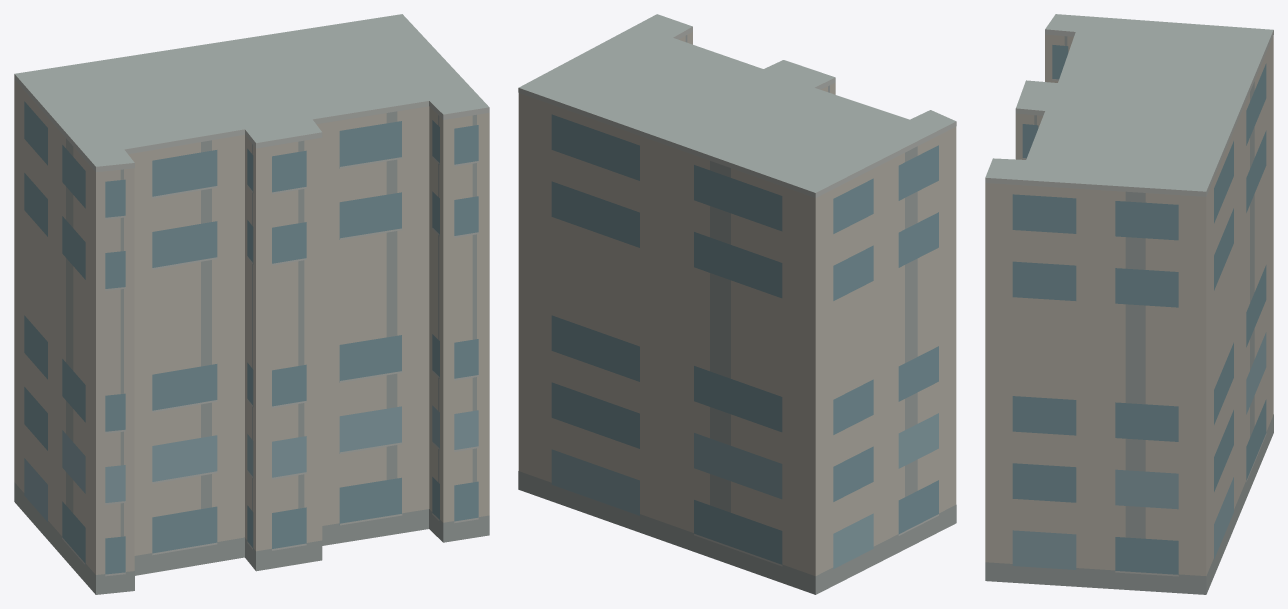
Rendered from survey-upis-32687090.glb.
3 renders of one model, left to right at view 1: azimuth 30°, elevation 25°; view 2: azimuth 150°, elevation 25°; view 3: azimuth 270°, elevation 25°, orthographic. The views are drawn at different scales.
Parts seen in each view (by area): view 1: survey-upis-32687090.tmp; view 2: survey-upis-32687090.tmp; view 3: survey-upis-32687090.tmp.
Boxes of the visible parts, x1,y1,x2,y2 form: survey-upis-32687090.tmp: [14, 14, 489, 594]; survey-upis-32687090.tmp: [518, 14, 956, 594]; survey-upis-32687090.tmp: [985, 14, 1273, 594].
Bounding box in the file's own units: 18.2 × 19.25 × 12.49.
